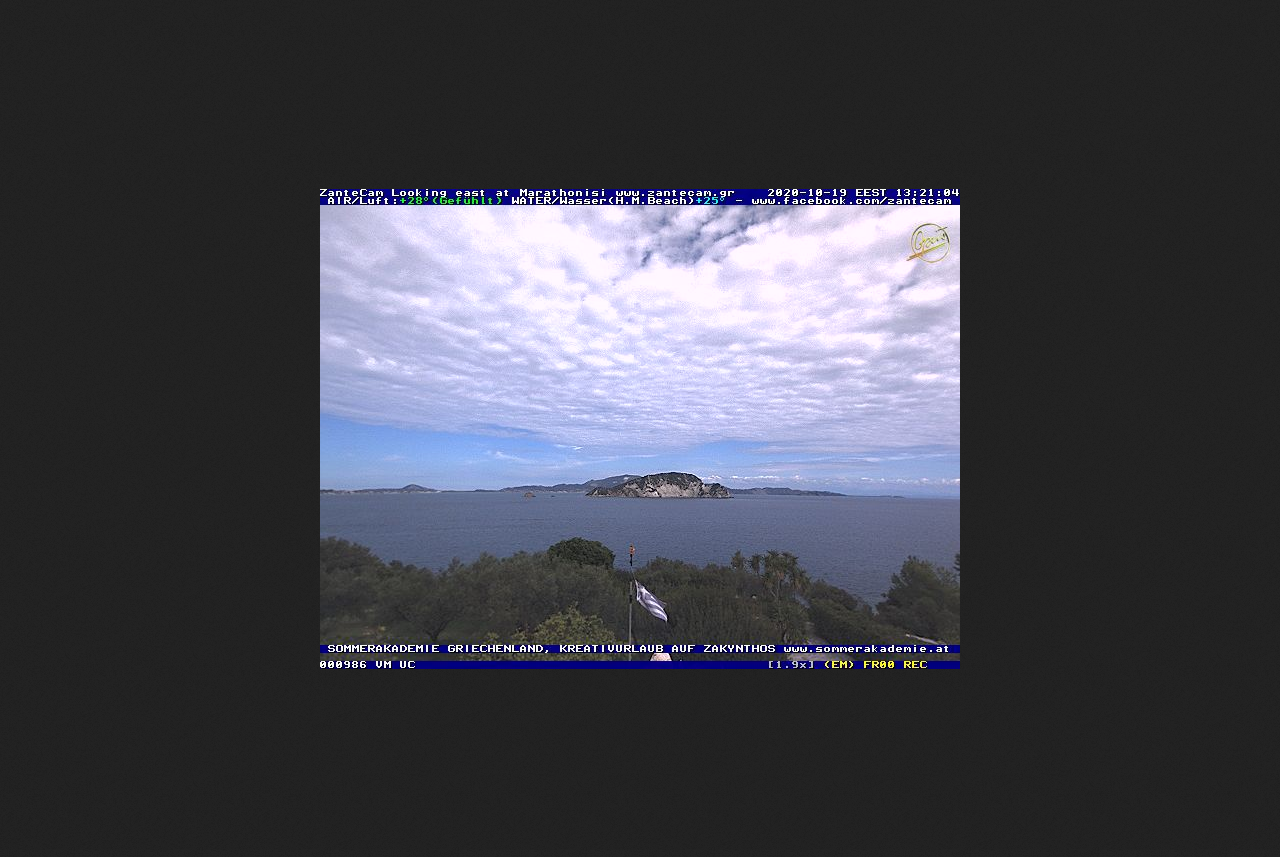maybe: (628, 577, 671, 623)
